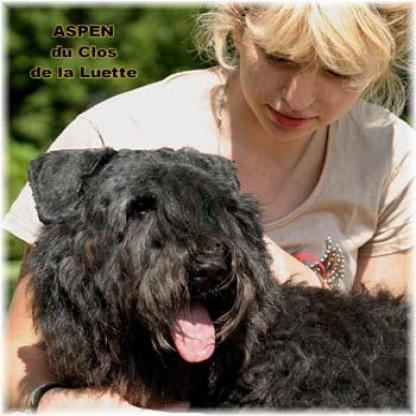Bouvier_des_Flandres: (25, 142, 409, 411)
